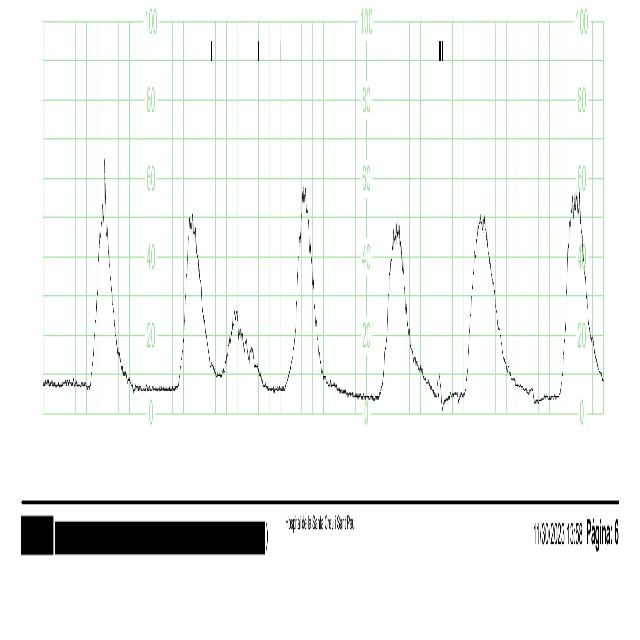contraction: (90, 160, 124, 392), (559, 185, 597, 392), (462, 220, 503, 394), (288, 183, 322, 388), (178, 222, 209, 399), (378, 224, 409, 399), (227, 311, 254, 386)
